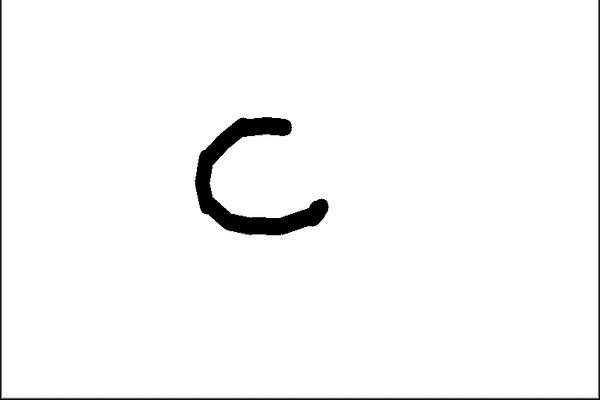C: (188, 112, 337, 236)
